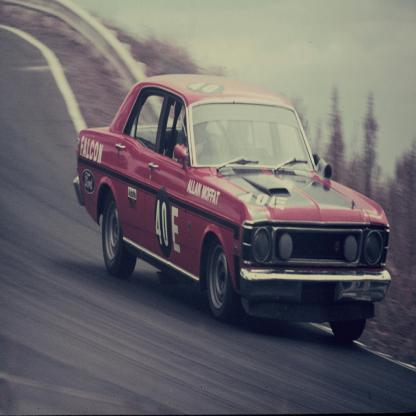Car: (73, 74, 391, 340)
